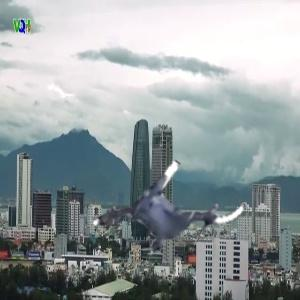drone: (106, 140, 245, 279)
